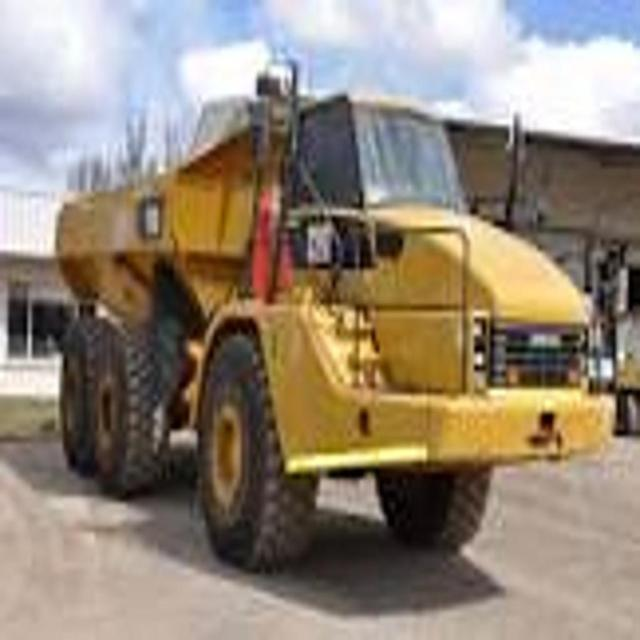dump_truck: (50, 84, 615, 568)
